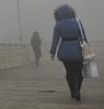person: (50, 4, 91, 103), (30, 30, 45, 69)
